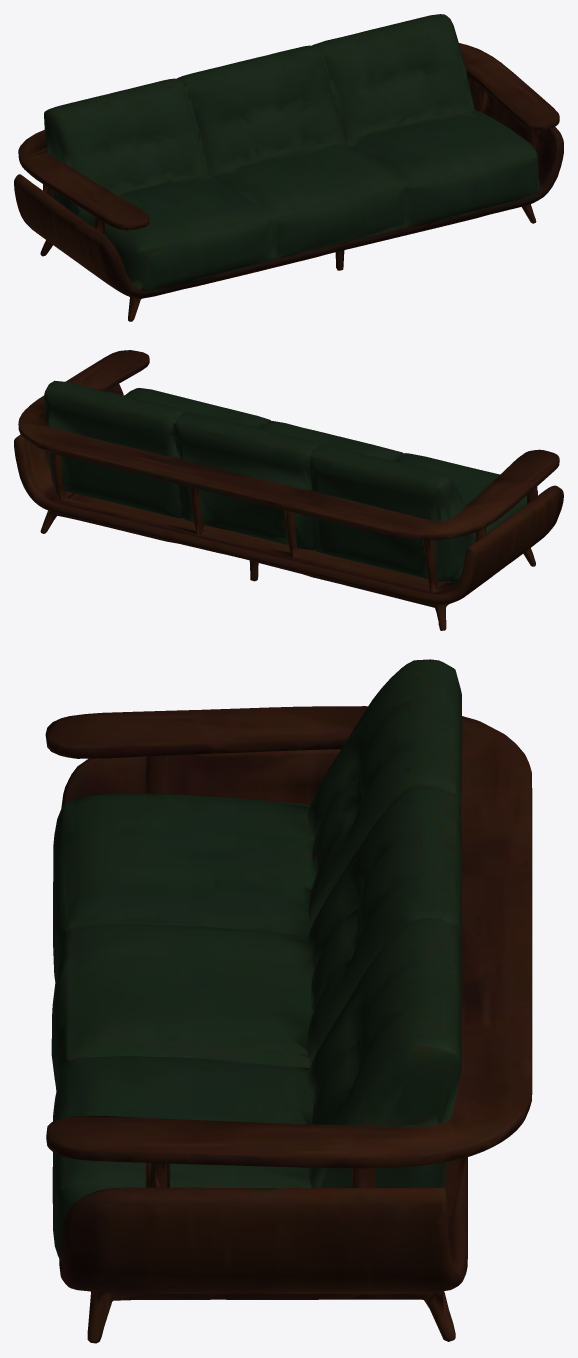
The model's file is 4m6la_p3eTPK103zUN_ZE.glb.
3 renders of one model, top to bottom at view 1: azimuth 30°, elevation 25°; view 2: azimuth 150°, elevation 25°; view 3: azimuth 270°, elevation 25°, orthographic. The views are drawn at different scales.
Parts seen in each view (by area): view 1: geometry_0; view 2: geometry_0; view 3: geometry_0.
Boxes of the visible parts, x1,y1,x2,y2 form: geometry_0: (14,14,563,321); geometry_0: (14,350,563,630); geometry_0: (45,659,532,1343).
Size of the model in its own units: 1 by 0.3085 by 0.4568.
Materials: 1 (1 with a texture image).
